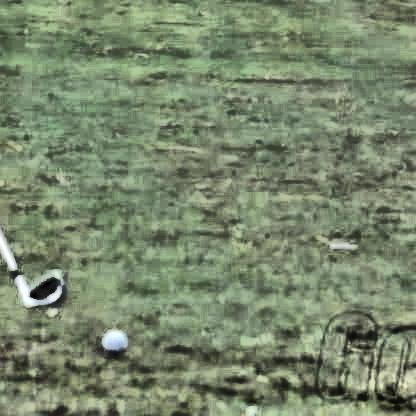golfball: (98, 326, 125, 354)
